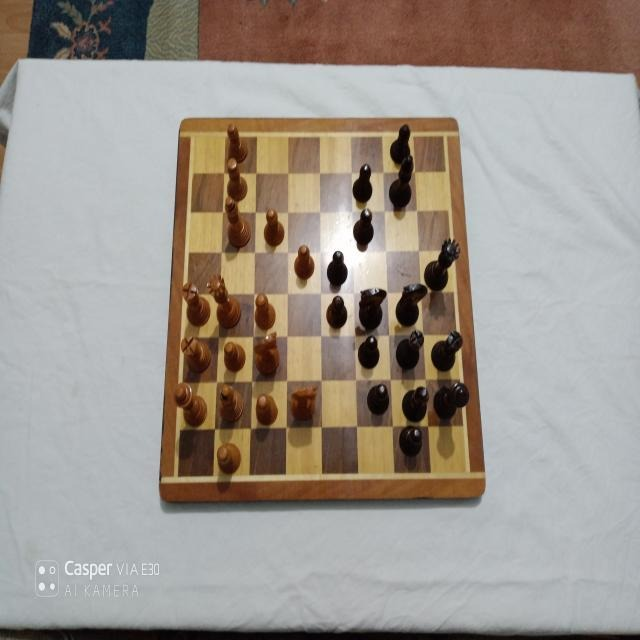black-bishop: (389, 154, 415, 206), (402, 385, 430, 422)
black-king: (432, 380, 469, 419)
black-knight: (395, 282, 428, 326), (358, 286, 386, 330)
black-pawn: (389, 124, 411, 164), (351, 163, 373, 203), (353, 208, 375, 244), (326, 250, 348, 286), (324, 295, 347, 329), (366, 383, 389, 417), (357, 334, 379, 369), (399, 424, 423, 456)
black-queen: (423, 237, 460, 291)
black-rook: (431, 329, 464, 371), (395, 329, 425, 371)
white-bishop: (224, 196, 251, 248), (217, 382, 242, 421)
white-king: (172, 380, 208, 427)
white-knight: (252, 330, 280, 373), (290, 384, 318, 420)
white-pawn: (226, 158, 248, 202), (253, 292, 276, 330), (227, 122, 248, 162), (263, 208, 285, 246), (215, 441, 240, 474), (293, 244, 315, 280), (255, 392, 278, 425), (222, 340, 245, 372)
white-queen: (206, 272, 241, 328)
white-rook: (182, 281, 210, 327), (181, 335, 211, 372)
